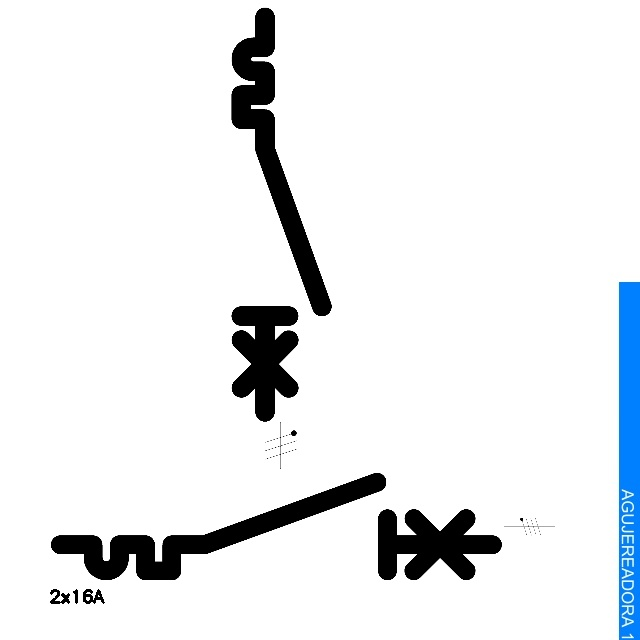interruptor_termomagnetico: (49, 471, 503, 582), (231, 7, 332, 422)
